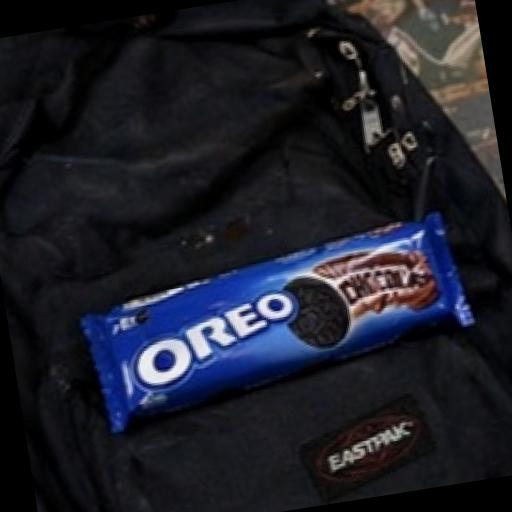oreo: (13, 162, 512, 505)
